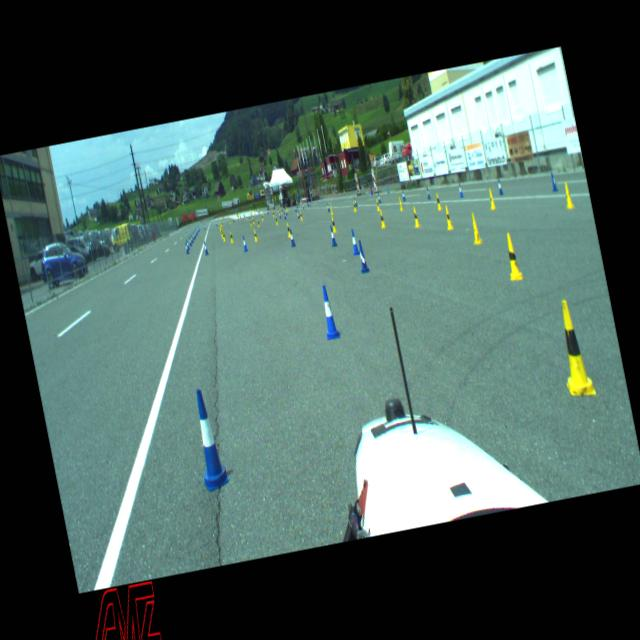blue_cone: (186, 388, 232, 492), (318, 284, 340, 339), (356, 239, 370, 273), (349, 228, 360, 255), (328, 225, 338, 247), (550, 172, 558, 192), (288, 228, 296, 246), (456, 182, 464, 198), (497, 177, 504, 195), (242, 236, 248, 252), (202, 241, 208, 255), (426, 187, 431, 200), (401, 188, 406, 200), (184, 242, 189, 254), (326, 203, 331, 212), (188, 236, 192, 246), (378, 194, 382, 204), (190, 234, 194, 243), (186, 240, 189, 250), (297, 209, 300, 218), (192, 232, 195, 240), (302, 202, 304, 210), (294, 204, 296, 210)
yellow_cone: (551, 297, 596, 398), (502, 232, 522, 281), (468, 212, 482, 244), (562, 182, 574, 208), (443, 205, 454, 230), (412, 206, 421, 228), (488, 188, 496, 209), (379, 210, 386, 228), (435, 193, 442, 210), (331, 216, 337, 232), (252, 228, 258, 242), (286, 222, 291, 238), (398, 197, 403, 210), (352, 201, 357, 212), (376, 198, 380, 211), (230, 231, 234, 243), (256, 218, 260, 228), (299, 211, 303, 220), (222, 232, 226, 240), (275, 216, 278, 225), (220, 226, 223, 235), (272, 210, 275, 218), (261, 214, 264, 221), (250, 218, 252, 226), (230, 218, 232, 224)
